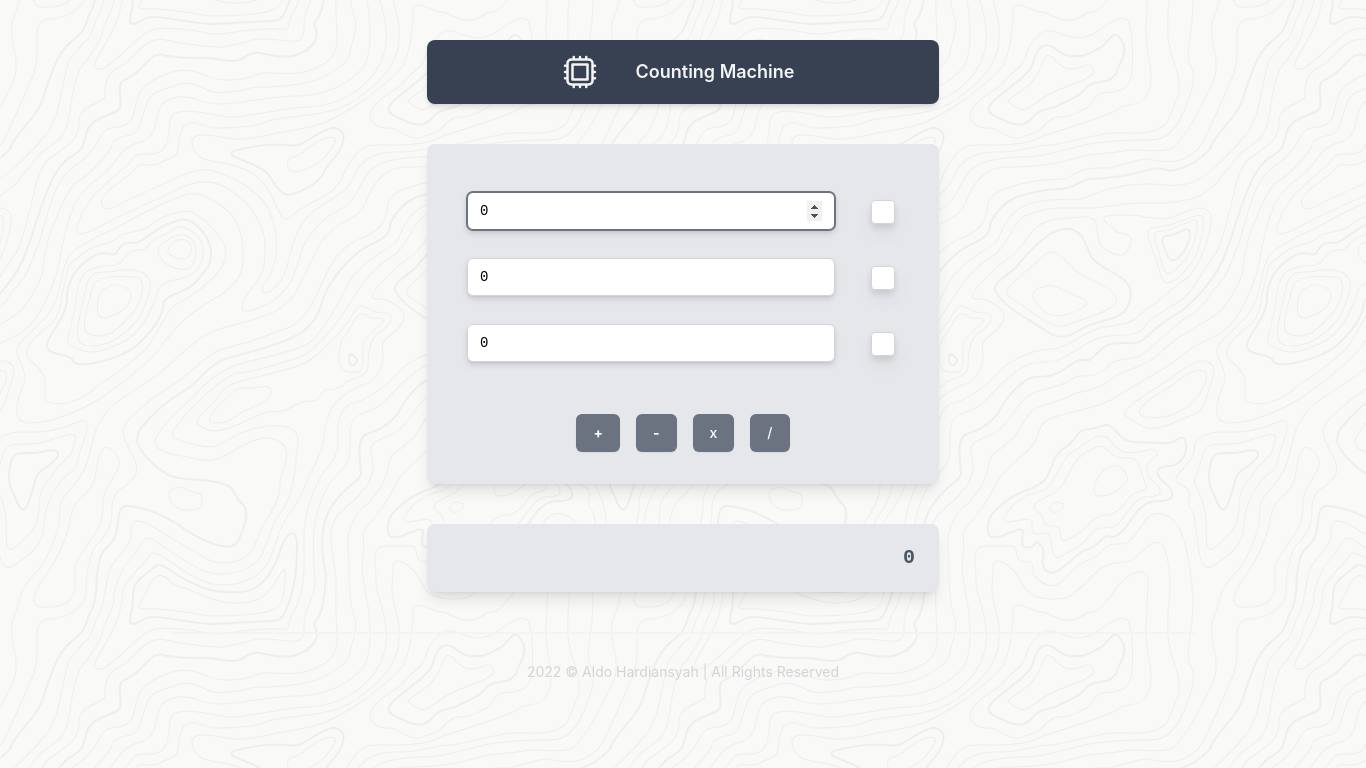
Test: Form Check › Do Sum and Check
Step 1. Type "10" into the number field with test id "firstNumber" → coordinates (651, 211), box x1=467 y1=192 x2=835 y2=230
Step 2. Click the checkbox with test id "firstCheck" → coordinates (883, 212), box x1=871 y1=200 x2=895 y2=224
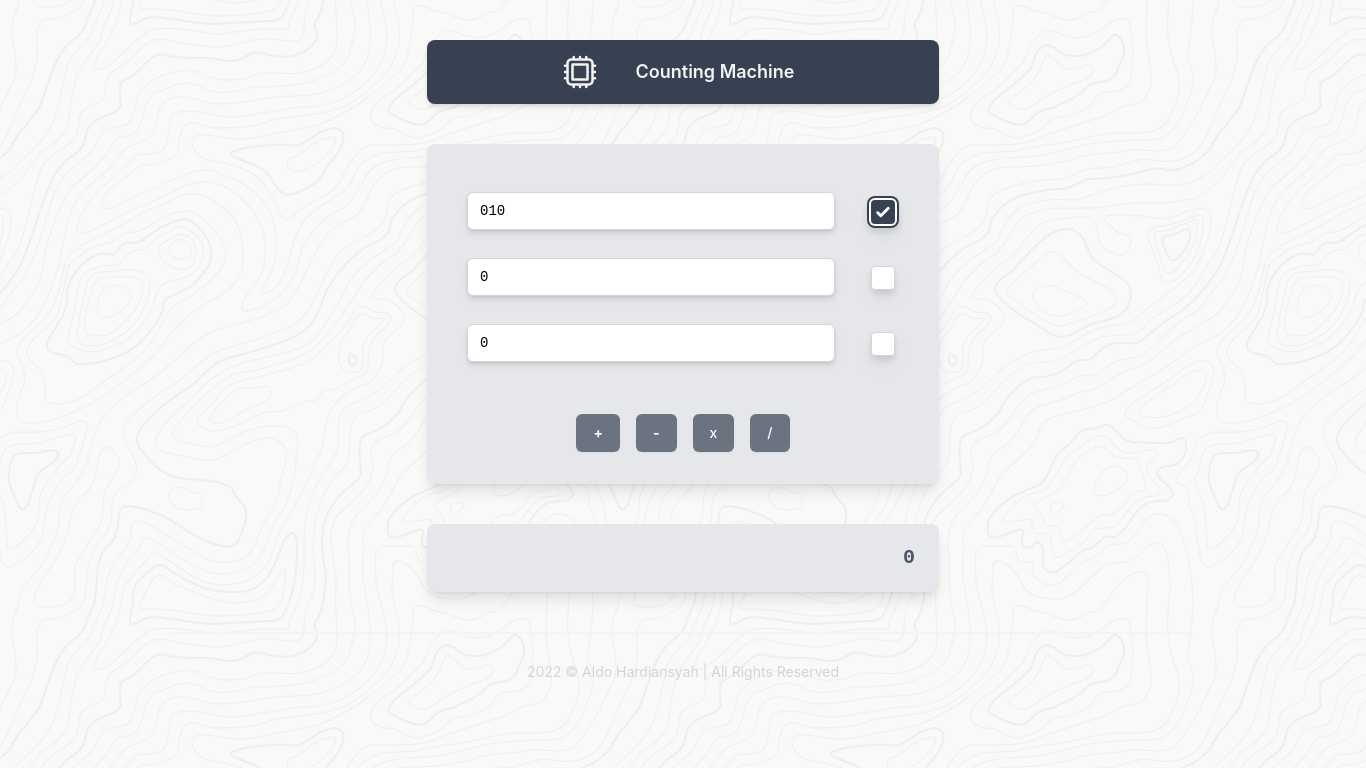
Step 3. Type "2" into the number field with test id "secondNumber" → coordinates (651, 277), box x1=467 y1=258 x2=835 y2=296
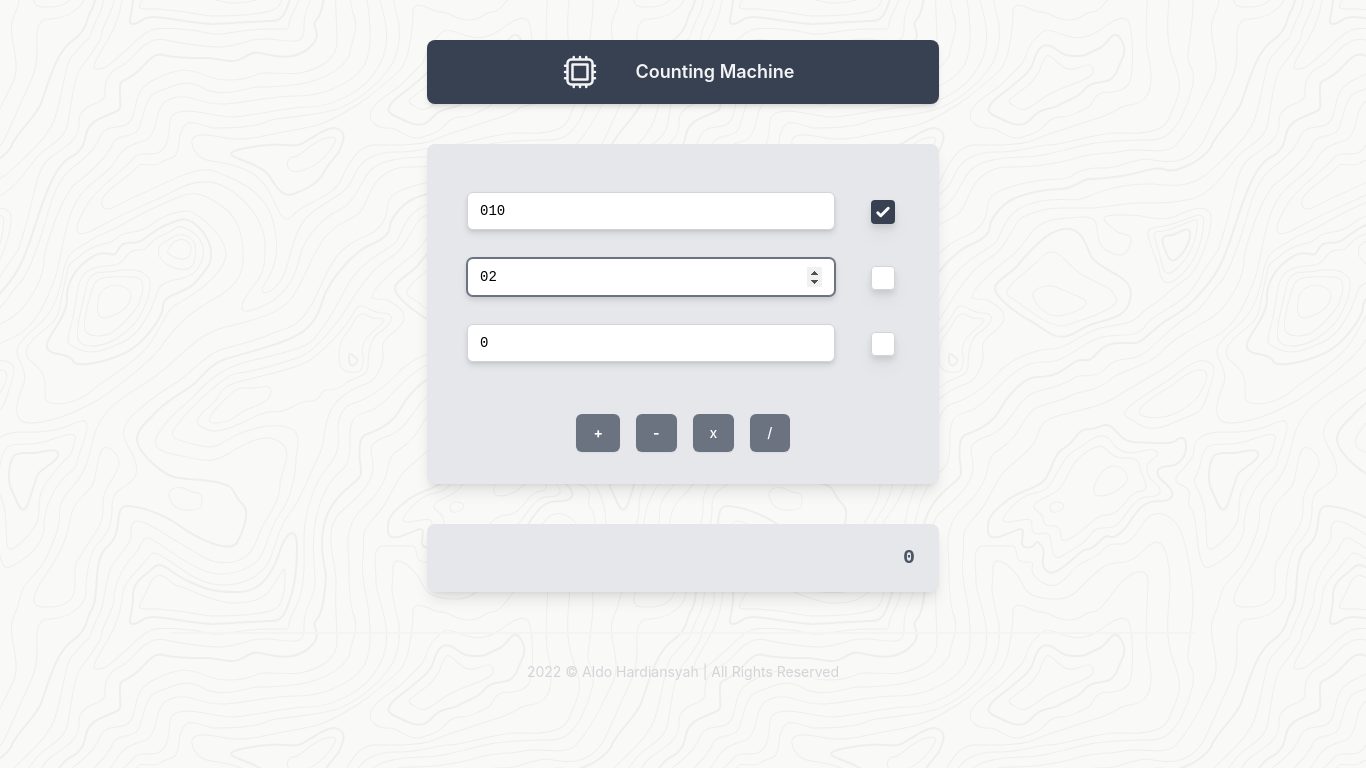
Step 4. Click the checkbox with test id "secondCheck" → coordinates (883, 278), box x1=871 y1=266 x2=895 y2=290
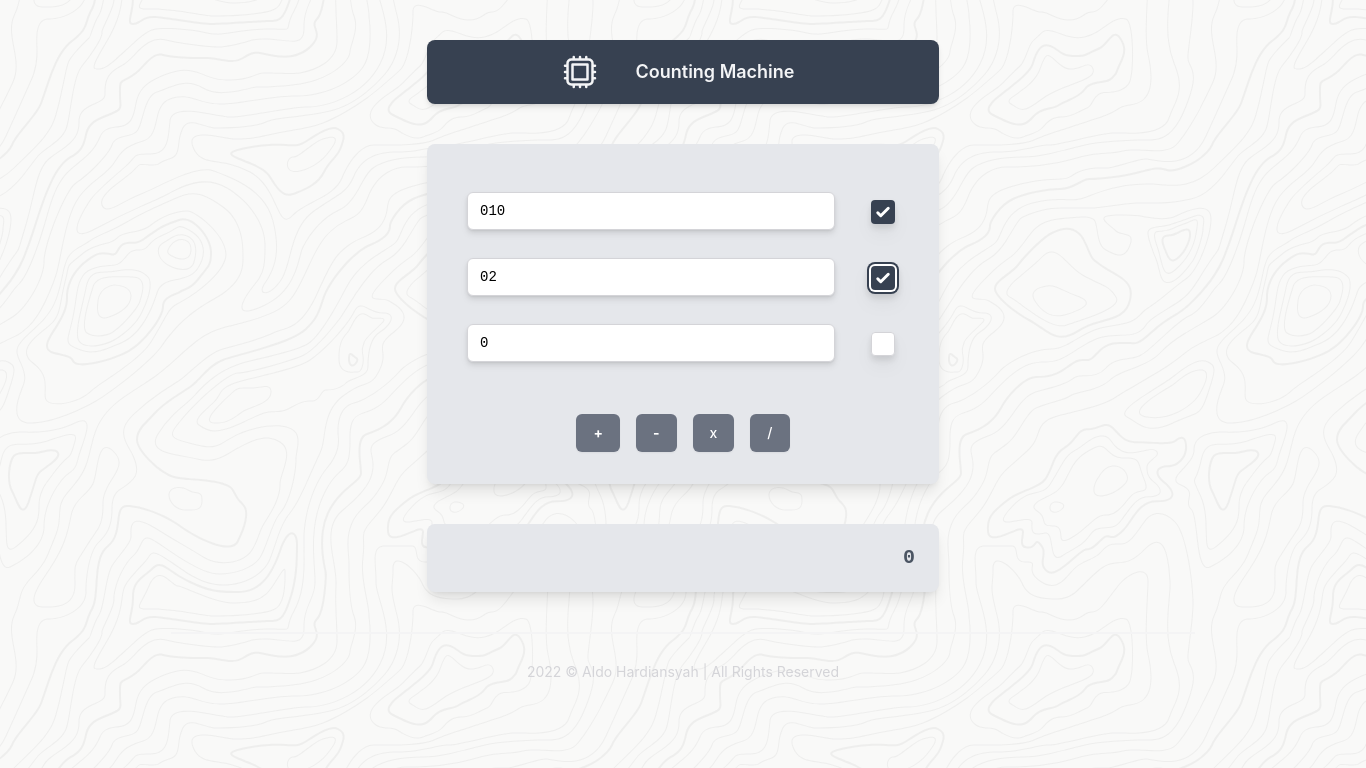
Step 5. Type "5" into the number field with test id "thirdNumber" → coordinates (651, 343), box x1=467 y1=324 x2=835 y2=362
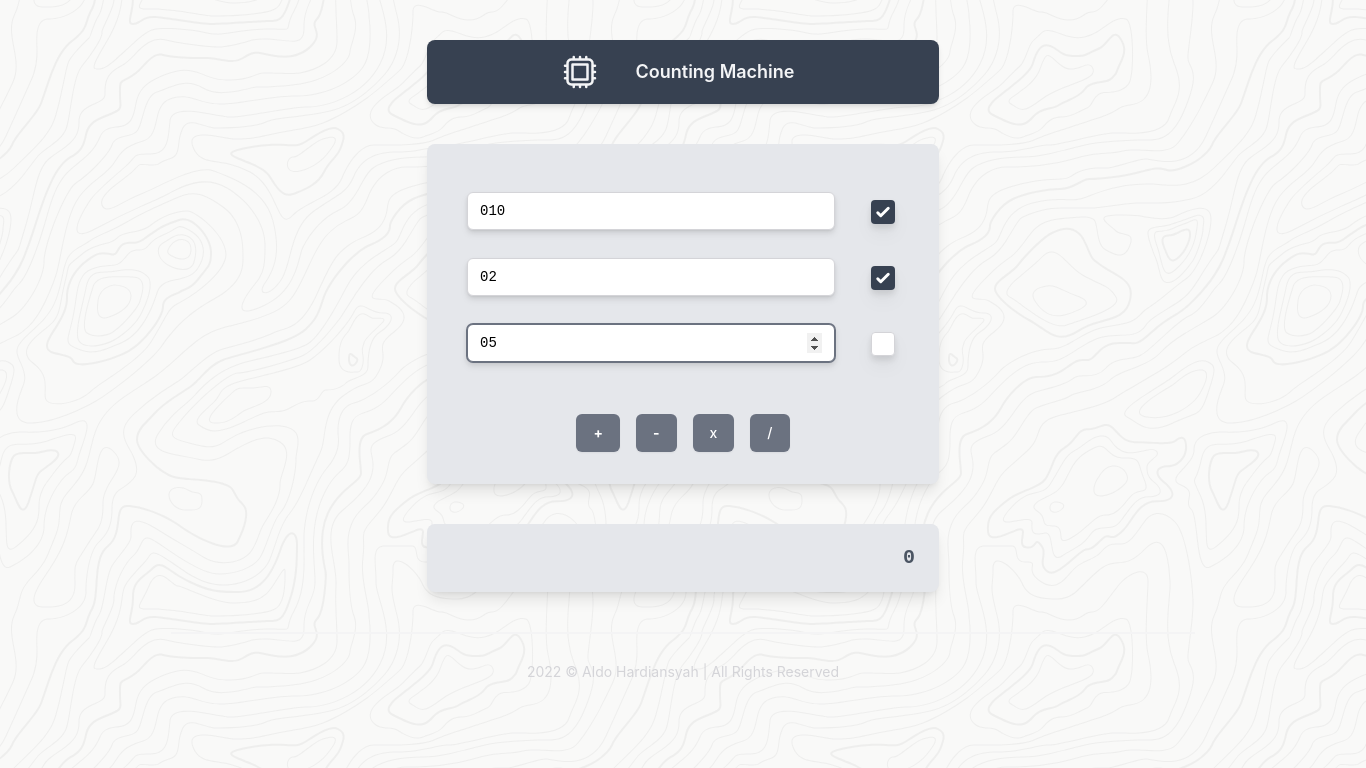
Step 6. Click the checkbox with test id "thirdCheck" → coordinates (883, 344), box x1=871 y1=332 x2=895 y2=356
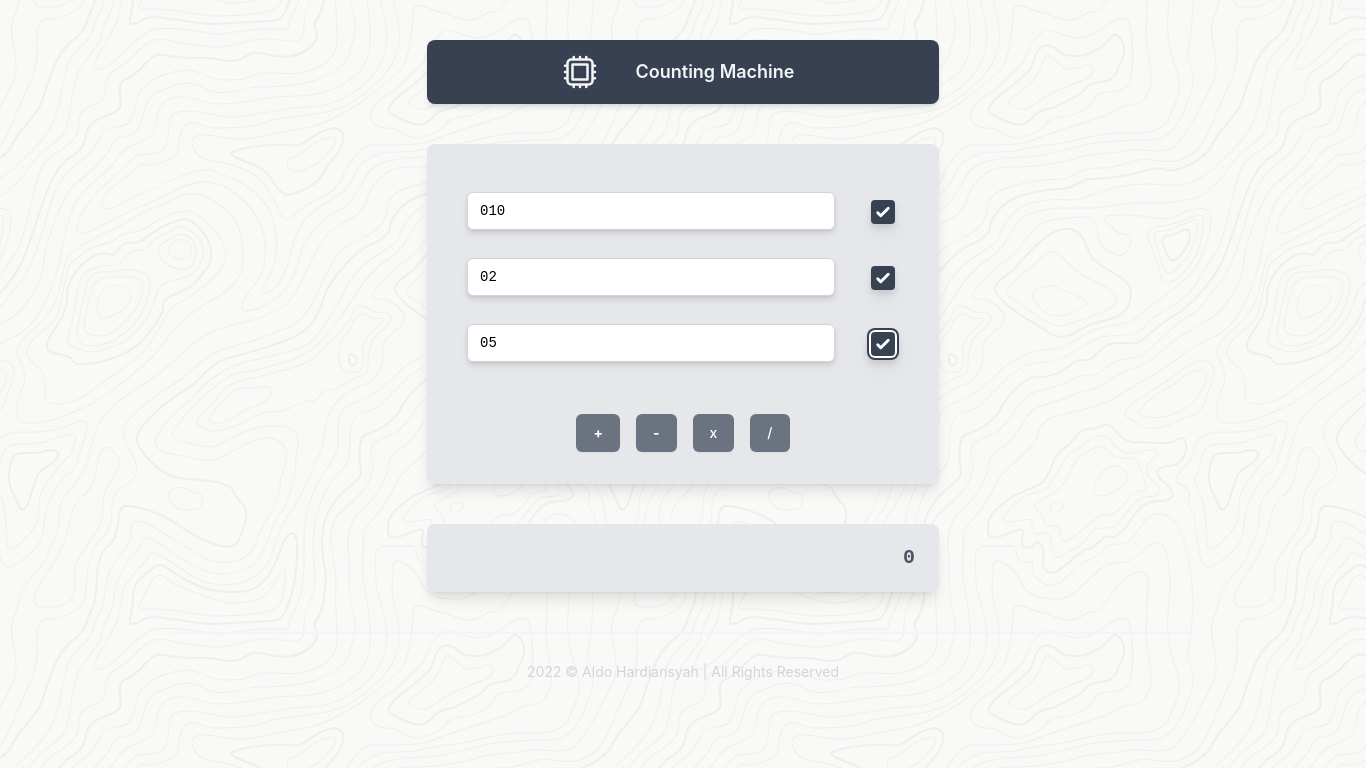
Step 7. Click the button with test id "calculateSum" → coordinates (598, 433), box x1=576 y1=414 x2=620 y2=452
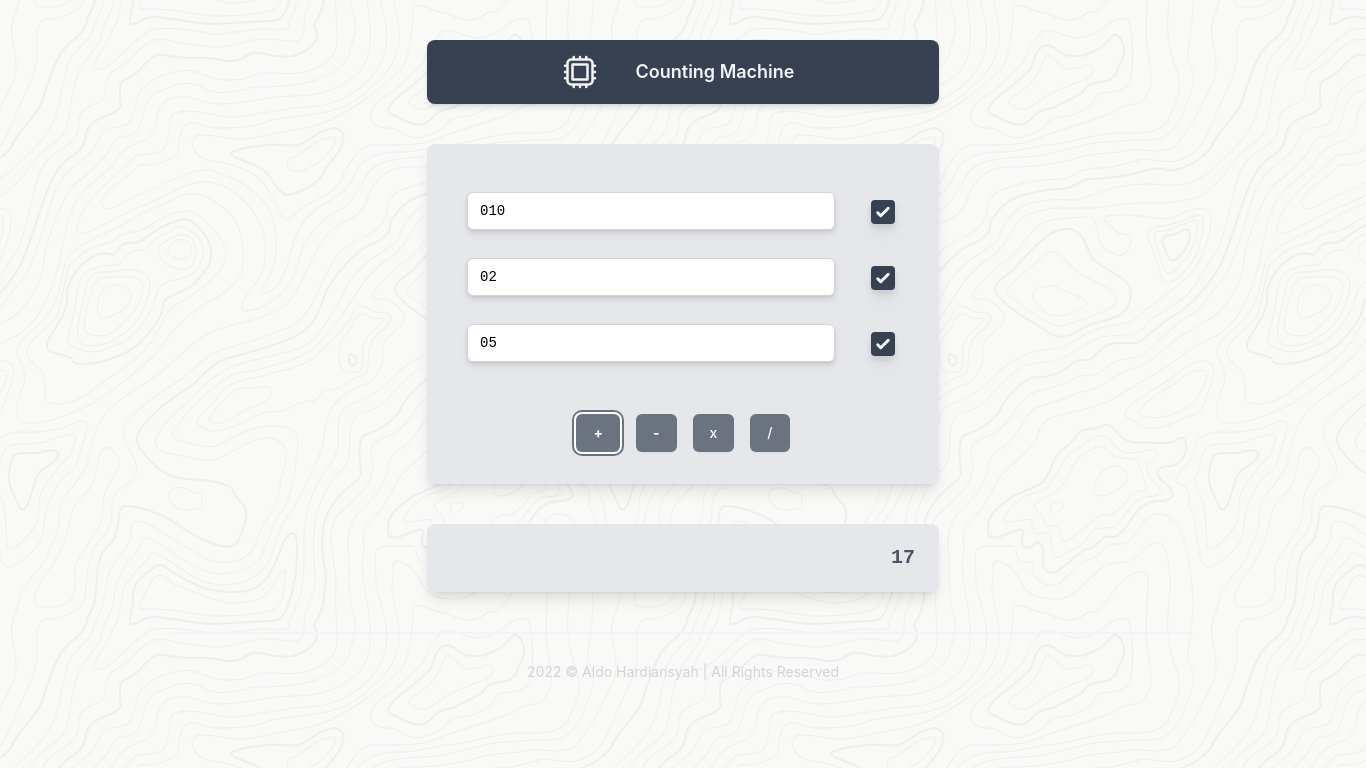
Now the text with test id "result" reads "17", box x1=891 y1=546 x2=915 y2=569
